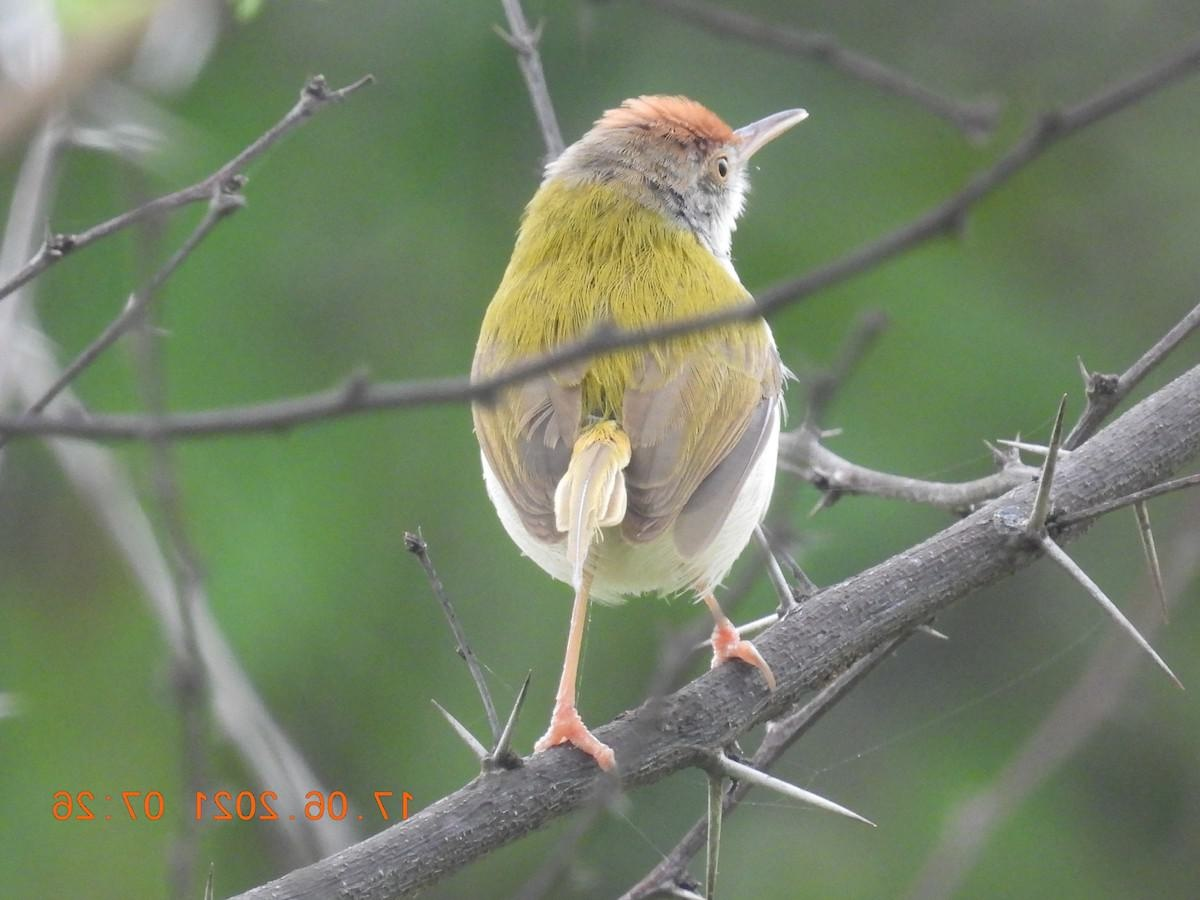tailorbird: (453, 71, 854, 763)
